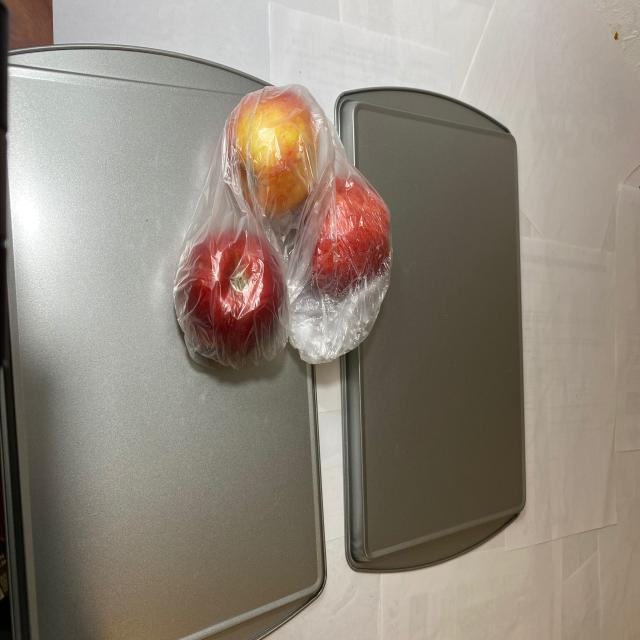apple: (177, 86, 397, 369)
